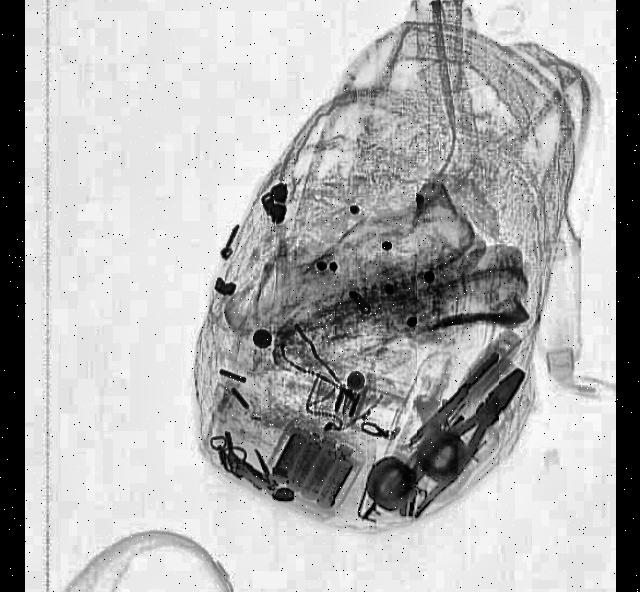Pliers: (388, 350, 536, 522)
